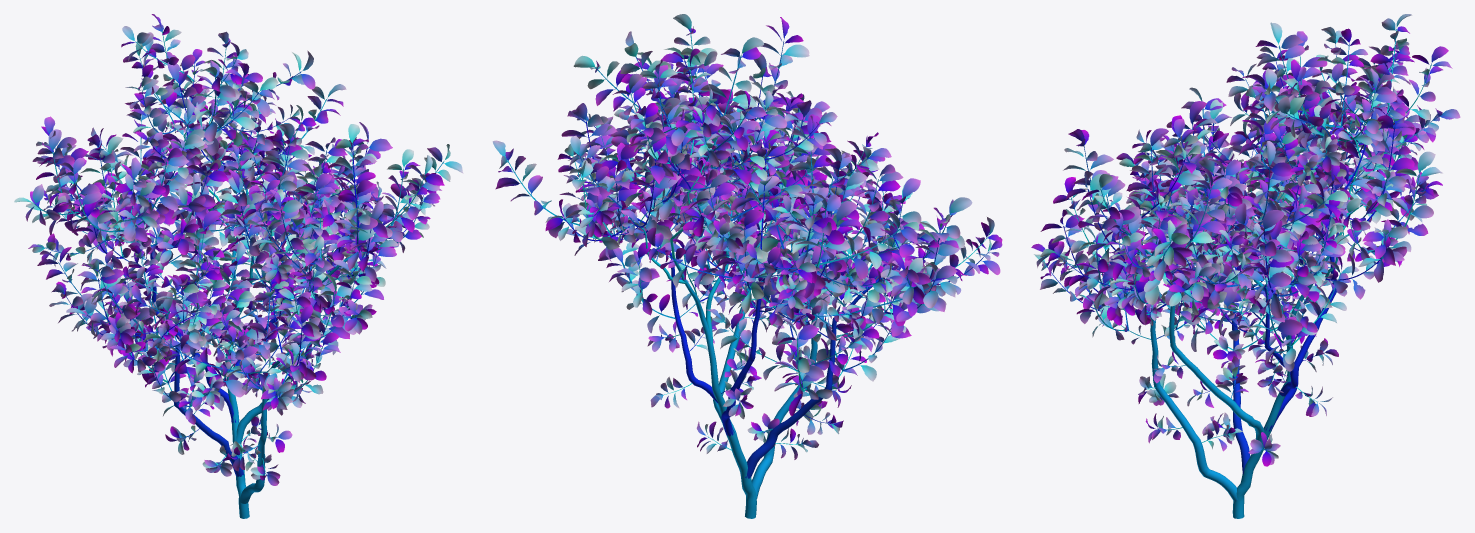
File: European_Spindle_wk1ncbxja_Raw_wk1ncbxja_VarE_LOD0.fbx
The picture shows the model from 3 angles, left to right: view 1: azimuth 30°, elevation 25°; view 2: azimuth 150°, elevation 25°; view 3: azimuth 270°, elevation 25°; orthographic projection. The views are drawn at different scales.
Parts seen in each view (by area): view 1: _d0u0_VarE_High; view 2: _d0u0_VarE_High; view 3: _d0u0_VarE_High.
Part boxes in pixels (<box>): _d0u0_VarE_High: <box>14,14,463,518</box>; _d0u0_VarE_High: <box>492,14,1002,518</box>; _d0u0_VarE_High: <box>1031,14,1460,518</box>.
Bounding box in the file's own units: 226 × 257 × 208.
